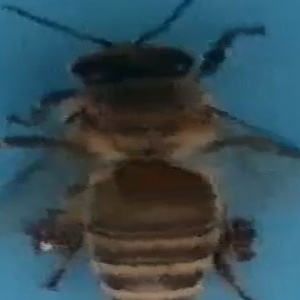bee: (22, 8, 285, 300)
